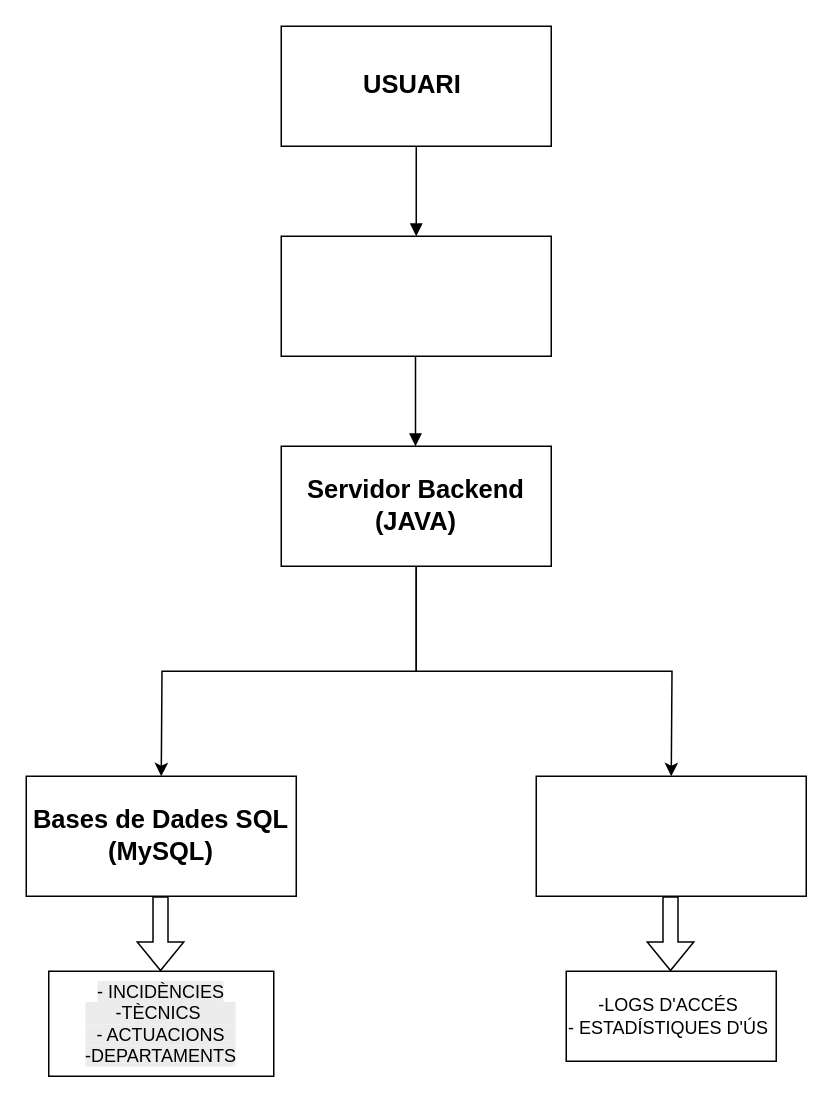
This 833x1103 diagram has some shape labels left out. Here are the shapes that lost their labels. From the top down, the centre of each, then its label:
At [415,295]: "Pàgina Web (HTML/CSS/JS)".
At [670,835]: "Base de Dades NoSQL (MONGODB)".
